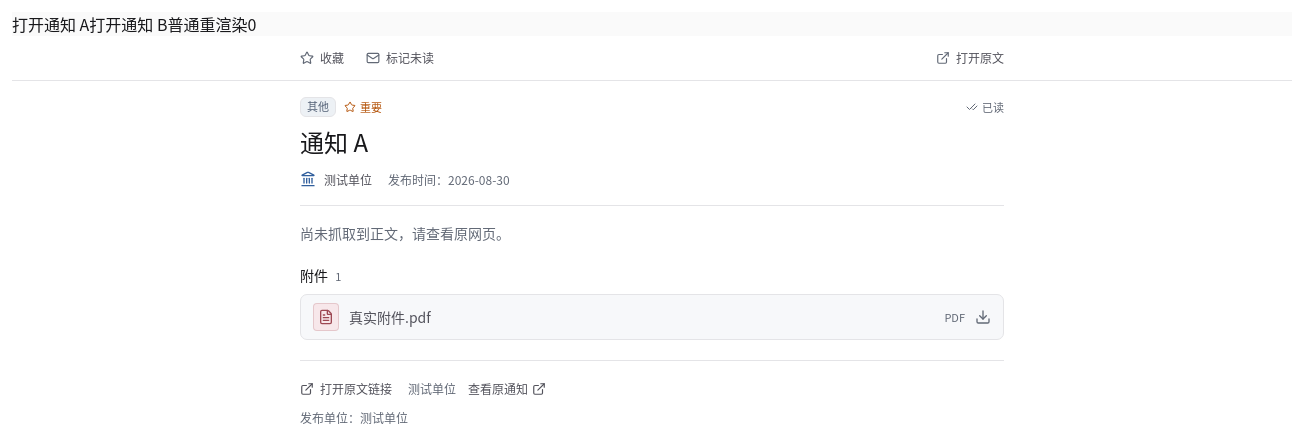
NoticeDetailPage › auto-reads unread notice A and B exactly once in the same component instance
Expected: the heading "通知 A" is shown, [300, 124, 368, 159]
Click the link "打开通知 B": click(128, 24) [89, 12, 167, 36]
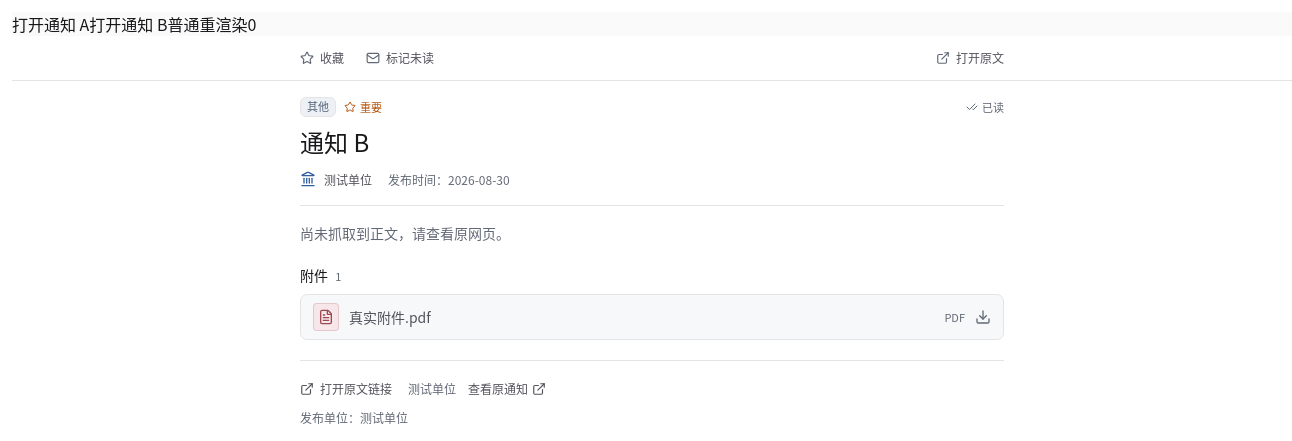
Now the heading "通知 B" is shown, box [300, 124, 369, 159]
